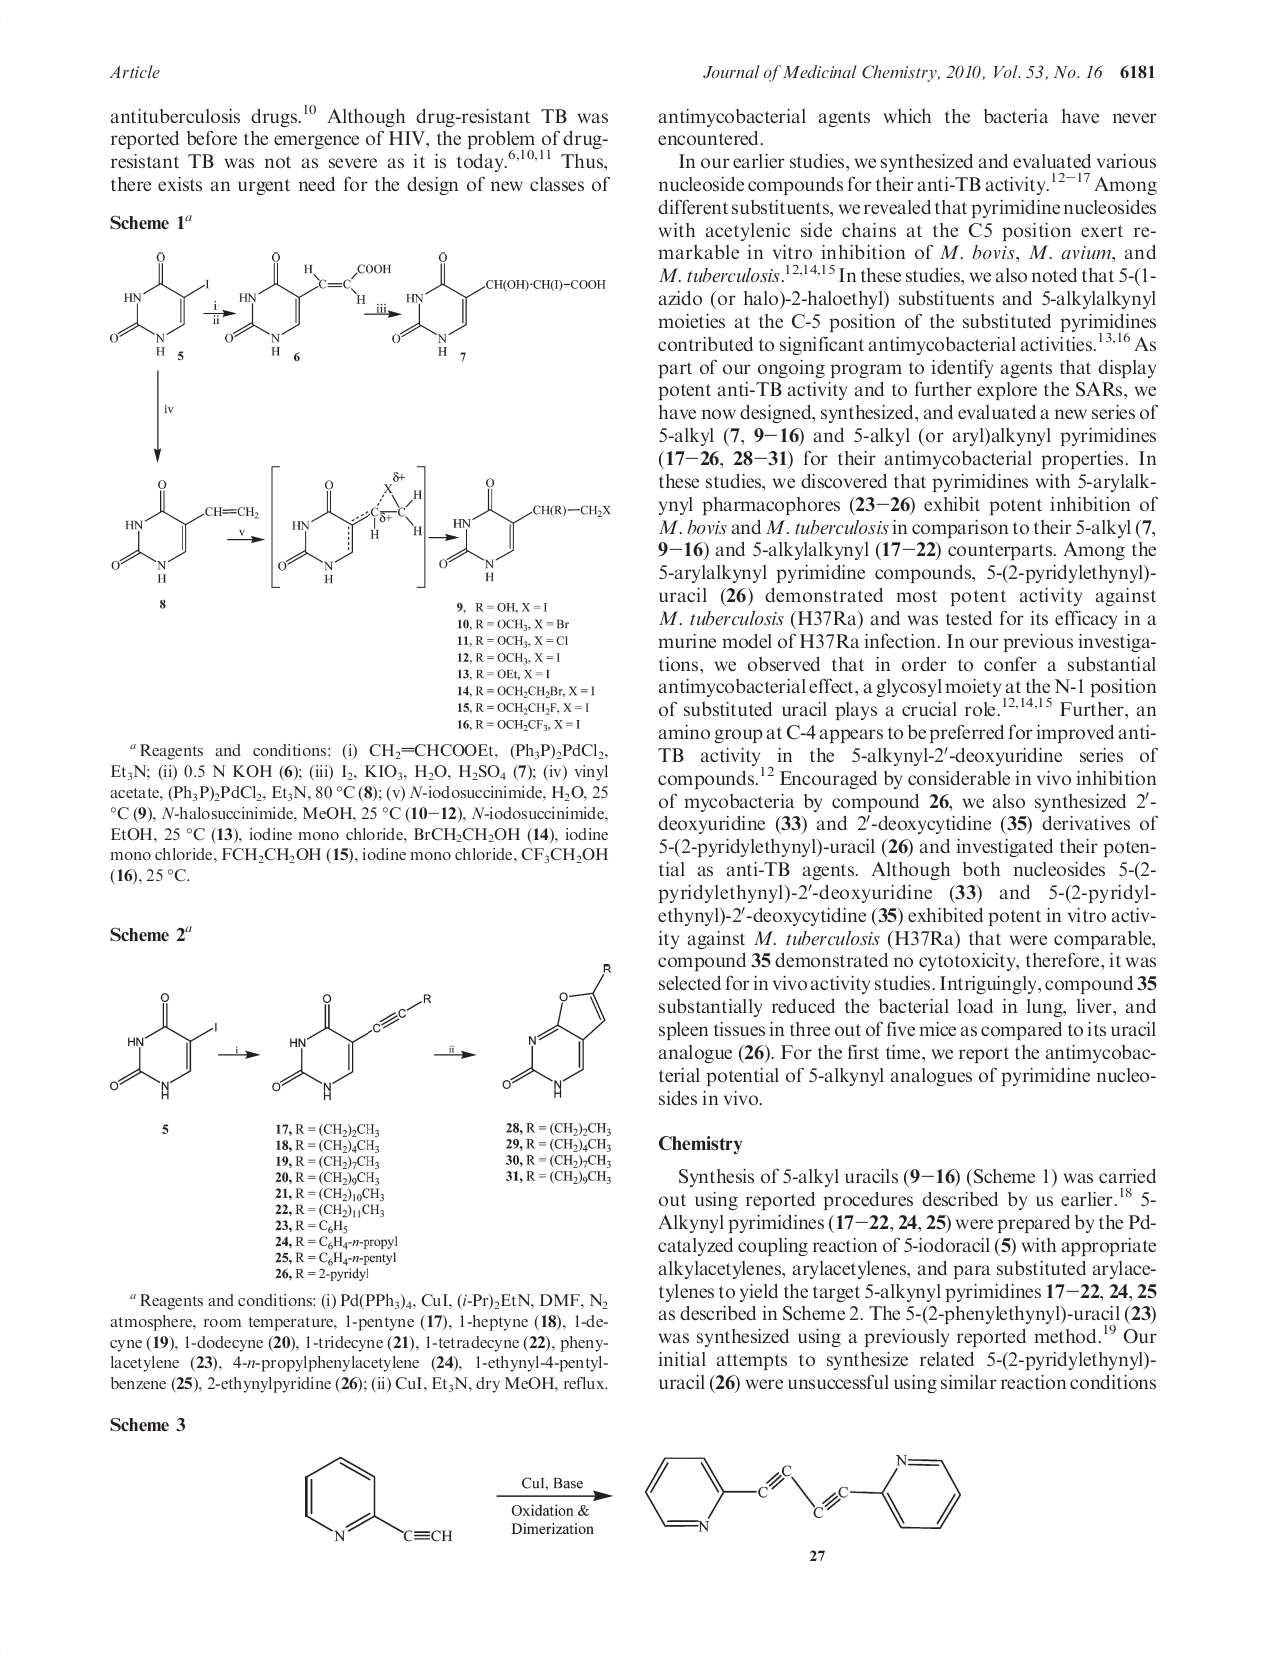exist_molecular: (644, 1448, 963, 1533), (391, 250, 608, 356), (269, 985, 436, 1102), (438, 477, 613, 584), (223, 250, 394, 359), (277, 469, 422, 588), (501, 962, 620, 1102), (108, 476, 262, 584), (301, 1454, 456, 1547), (109, 992, 221, 1102), (108, 250, 210, 356)
